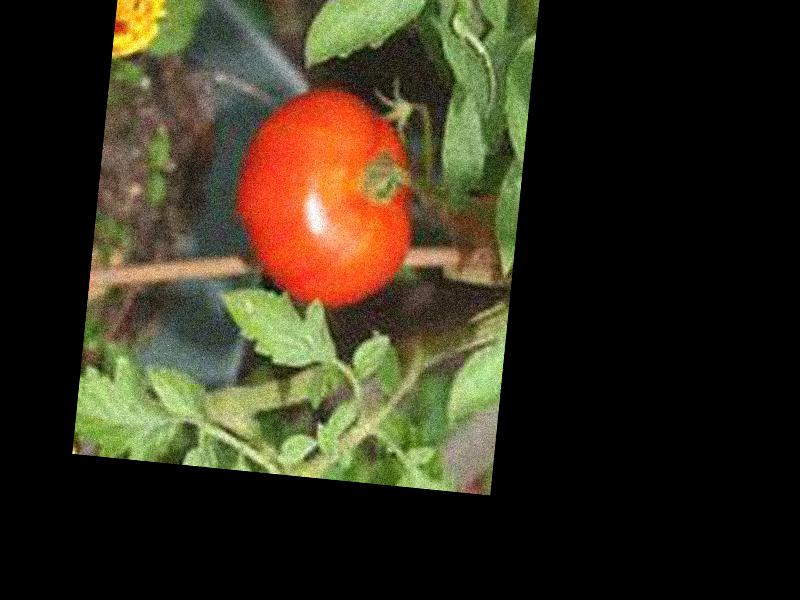Tomato: (229, 78, 426, 317)
